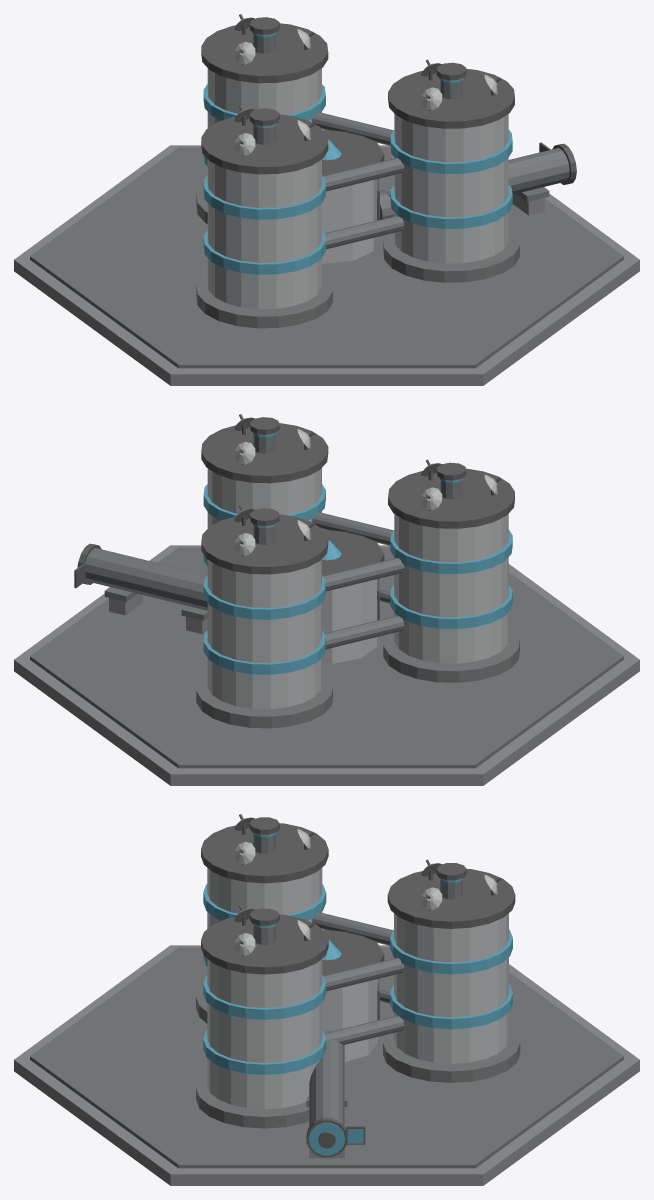
The model's file is cleaner_s2_ruin.glb.
3 renders of one model, top to bottom at view 1: azimuth 30°, elevation 25°; view 2: azimuth 150°, elevation 25°; view 3: azimuth 270°, elevation 25°, orthographic.
Parts seen in each view (by area): view 1: C_FoundRim, C_Foundation, C_T2_Tank, C_T3_Tank, C_T2_Cap, C_T1_Cap, C_T3_Cap, C_T1_Tank, C_T2_Pedestal, C_T3_Pedestal, C_ControlHouse, C_PipeStubE (+9 smaller); view 2: C_FoundRim, C_Foundation, C_T1_Tank, C_T2_Tank, C_T1_Cap, C_T3_Cap, C_T2_Cap, C_PipeStubE, C_T3_Tank, C_T1_Pedestal, C_T2_Pedestal, C_ControlHouse (+9 smaller); view 3: C_FoundRim, C_Foundation, C_T1_Tank, C_T3_Tank, C_T1_Cap, C_T2_Cap, C_T3_Cap, C_T2_Tank, C_T1_Pedestal, C_ControlHouse, C_PipeStubE, C_T3_Pedestal (+10 smaller).
Boxes of the visible parts, <box> form: C_FoundRim: <box>30,147,623,368</box>; C_Foundation: <box>14,145,639,385</box>; C_T2_Tank: <box>207,159,321,309</box>; C_T3_Tank: <box>394,114,508,263</box>; C_T2_Cap: <box>201,114,328,174</box>; C_T1_Cap: <box>201,23,328,83</box>; C_T3_Cap: <box>388,69,514,128</box>; C_T1_Tank: <box>207,68,321,127</box>; C_T2_Pedestal: <box>196,272,332,328</box>; C_T3_Pedestal: <box>383,227,519,282</box>; C_ControlHouse: <box>322,179,376,263</box>; C_PipeStubE: <box>377,148,569,219</box>; C_FoundRim: <box>30,547,623,768</box>; C_Foundation: <box>14,545,639,785</box>; C_T1_Tank: <box>207,559,321,709</box>; C_T2_Tank: <box>394,514,508,663</box>; C_T1_Cap: <box>201,514,328,574</box>; C_T3_Cap: <box>201,423,328,483</box>; C_T2_Cap: <box>388,468,514,528</box>; C_PipeStubE: <box>85,548,207,610</box>; C_T3_Tank: <box>207,468,321,528</box>; C_T1_Pedestal: <box>196,672,332,728</box>; C_T2_Pedestal: <box>383,627,519,682</box>; C_ControlHouse: <box>322,579,376,663</box>; C_FoundRim: <box>30,947,623,1168</box>; C_Foundation: <box>14,945,639,1185</box>; C_T1_Tank: <box>394,913,508,1063</box>; C_T3_Tank: <box>207,959,322,1109</box>; C_T1_Cap: <box>387,869,515,928</box>; C_T2_Cap: <box>201,823,328,883</box>; C_T3_Cap: <box>201,914,328,974</box>; C_T2_Tank: <box>207,867,322,928</box>; C_T1_Pedestal: <box>383,1027,520,1082</box>; C_ControlHouse: <box>322,979,377,1061</box>; C_PipeStubE: <box>309,1029,344,1126</box>; C_T3_Pedestal: <box>196,1073,309,1128</box>.
Size of the model in its own units: 3.45 by 1.4 by 3.92.
